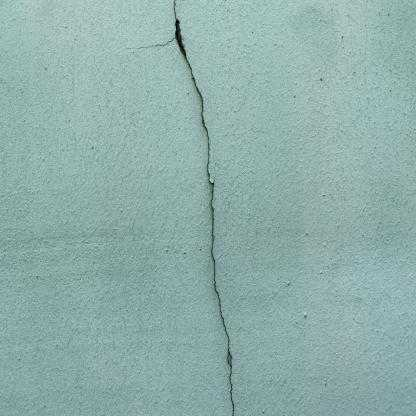crack: (119, 1, 235, 415)
